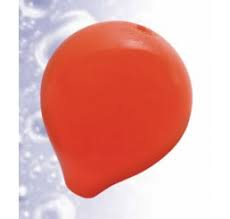buoy: (41, 21, 193, 199)
